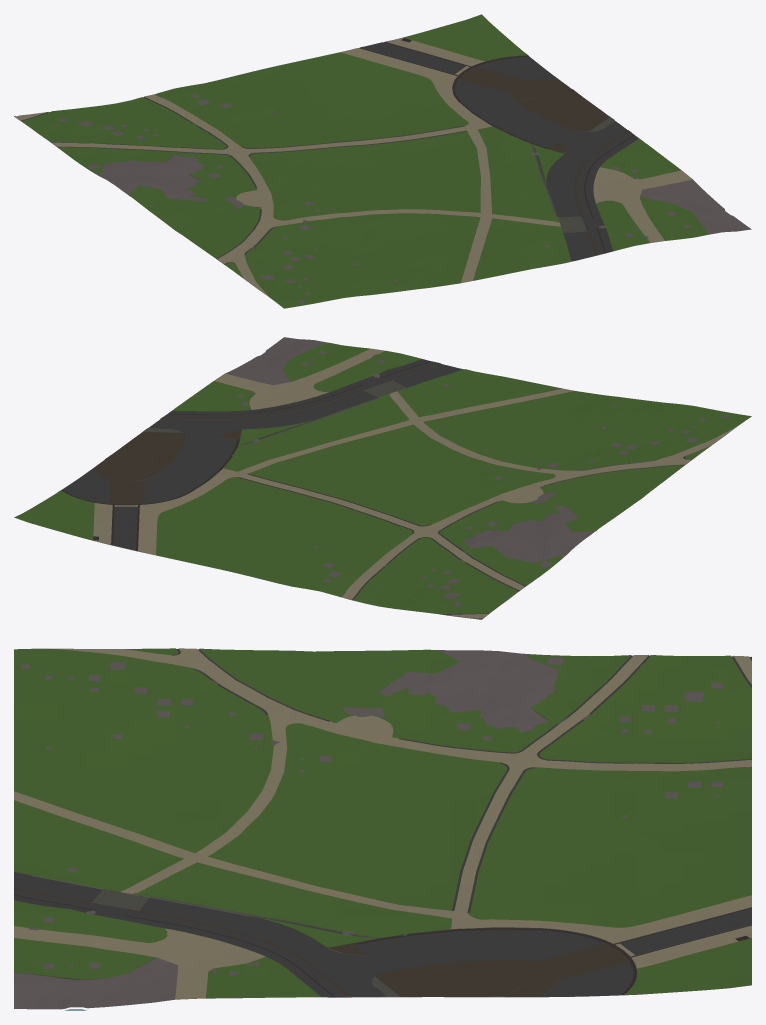
3 renders of one model, top to bottom at view 1: azimuth 30°, elevation 25°; view 2: azimuth 150°, elevation 25°; view 3: azimuth 270°, elevation 25°, orthographic. The views are drawn at different scales.
Parts seen in each view (by area): view 1: c_p02_p12; view 2: c_p02_p12; view 3: c_p02_p12.
Boxes of the visible parts, x1=… form: c_p02_p12: x1=14, y1=14, x2=751, y2=308; c_p02_p12: x1=14, y1=337, x2=751, y2=619; c_p02_p12: x1=14, y1=648, x2=751, y2=1010.
Size of the model in its own units: 128 by 9.62 by 128.
